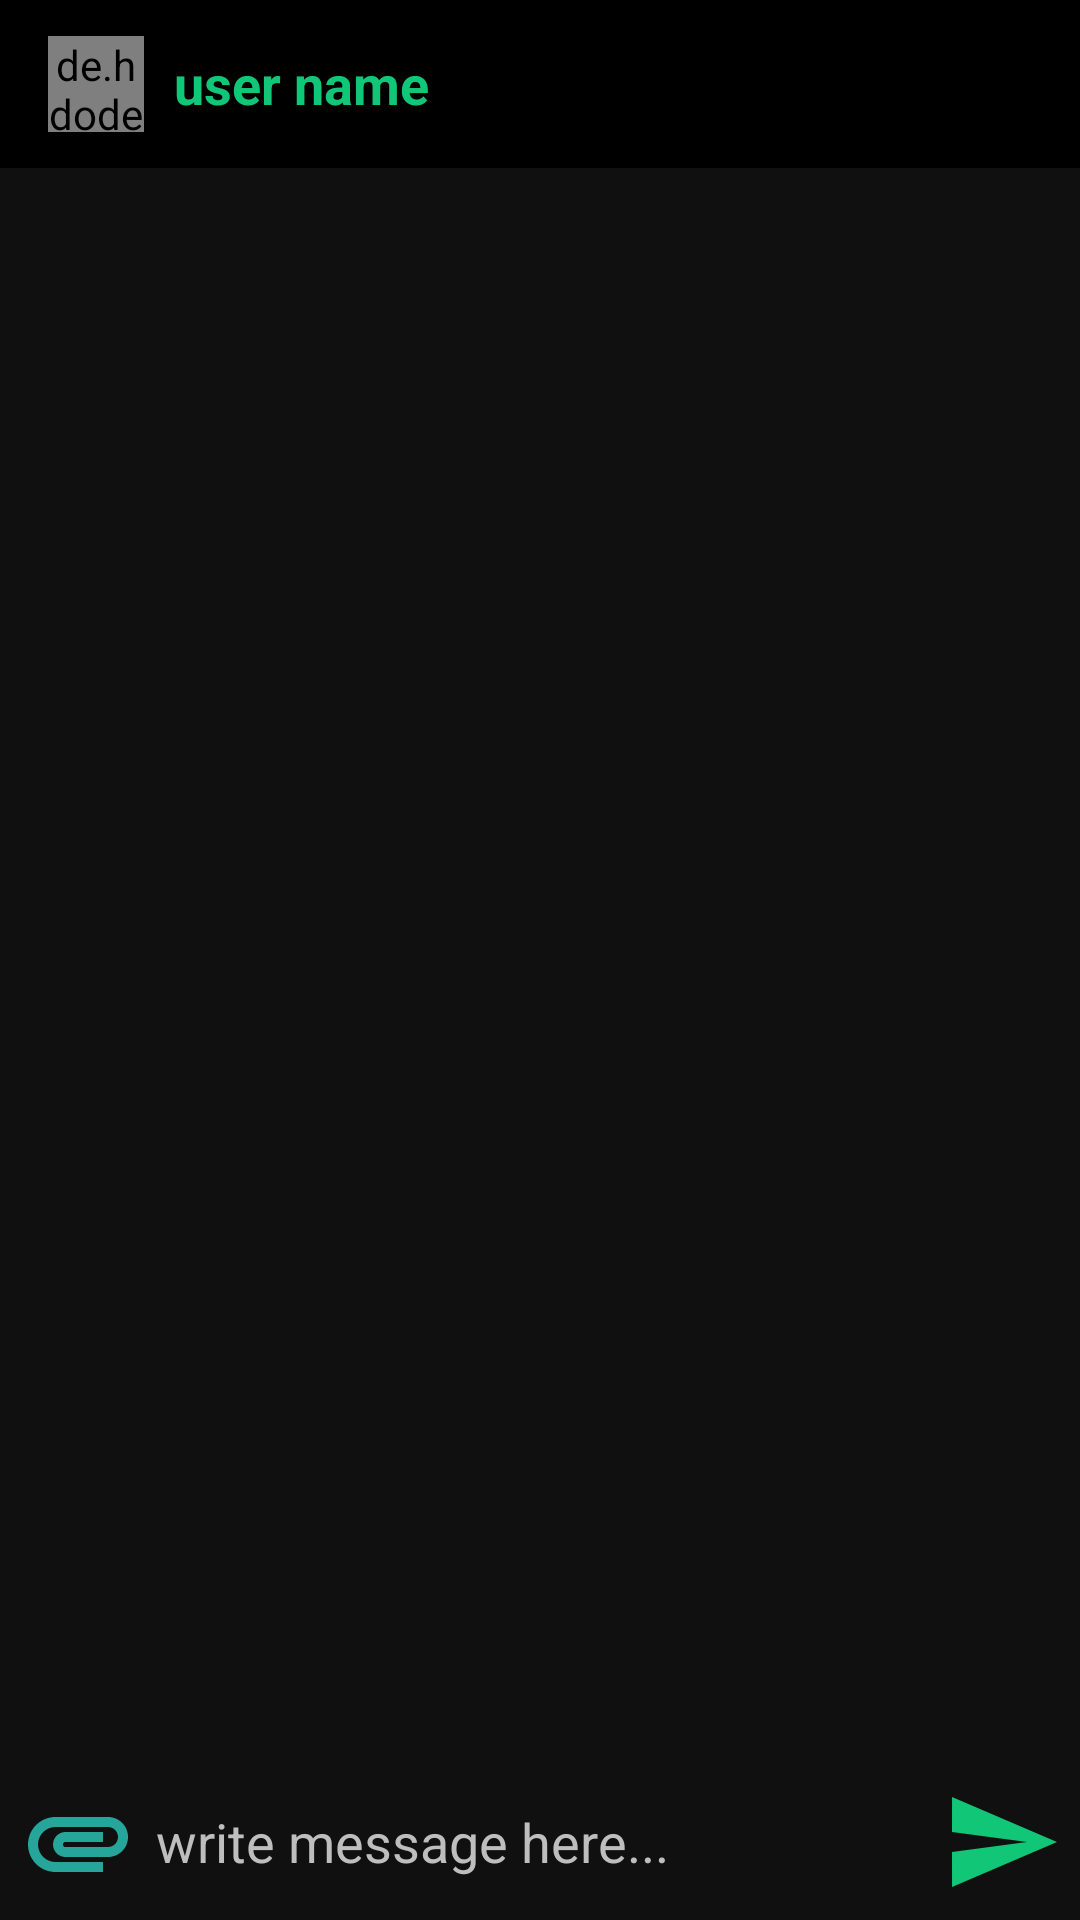

Screen size 1080*1920. Icon name, then its center in pixels as (x=x, y=y):
attachment: (x=78, y=1844)
send: (x=1004, y=1842)
